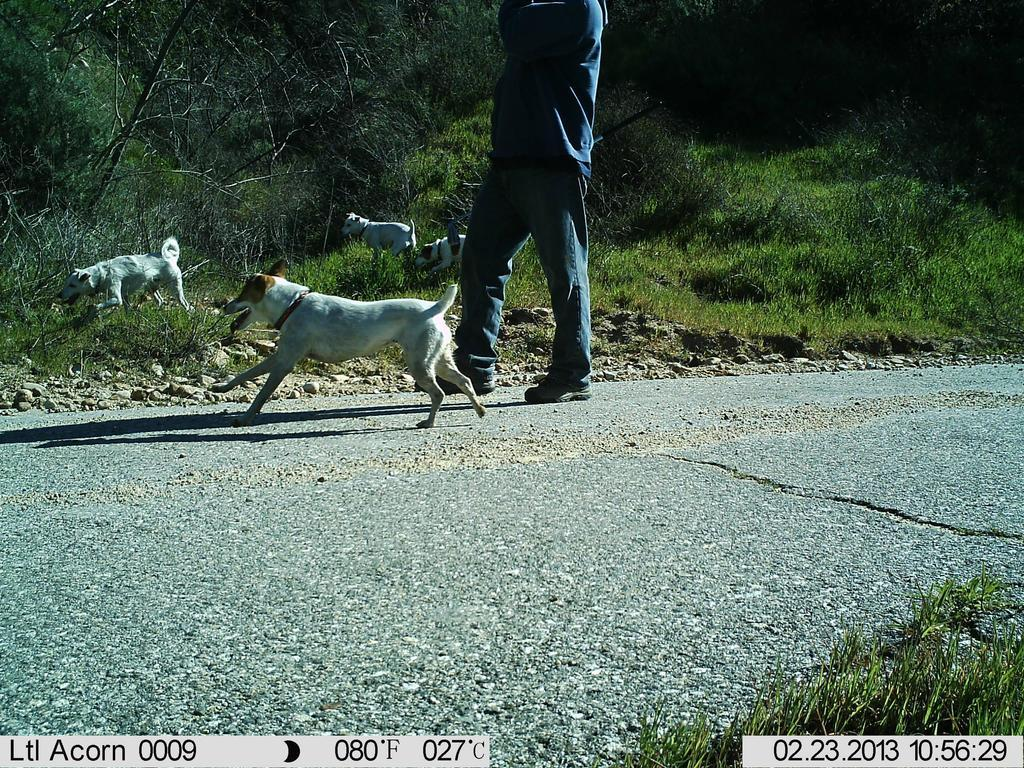dog: (199, 256, 495, 437), (50, 234, 197, 334), (332, 198, 419, 277), (415, 227, 486, 279)
